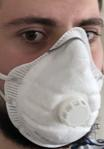with_mask: (1, 1, 104, 149)
